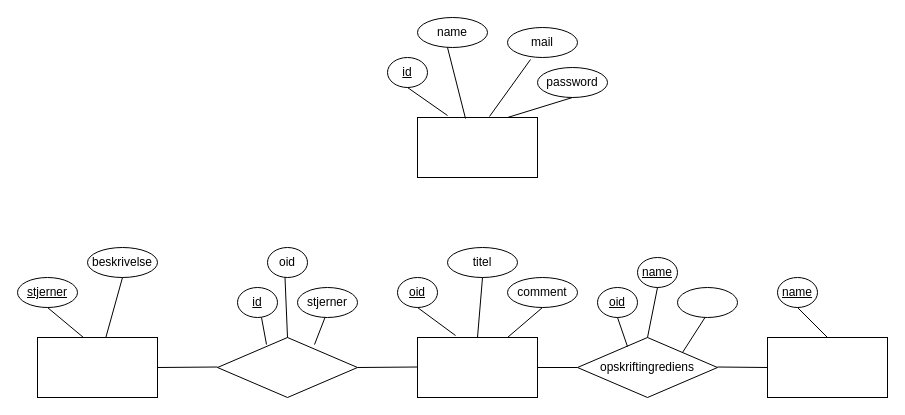
Image size: 905x415. Some labels were removed from this diagram. Here are the shapes that lost their labels. From the top down, the centre of each, then its label:
(477,147): user
(707,302): mængde
(97,367): ratingtype
(287,367): opskriftrating
(477,367): opskrift
(827,367): ingredienser
